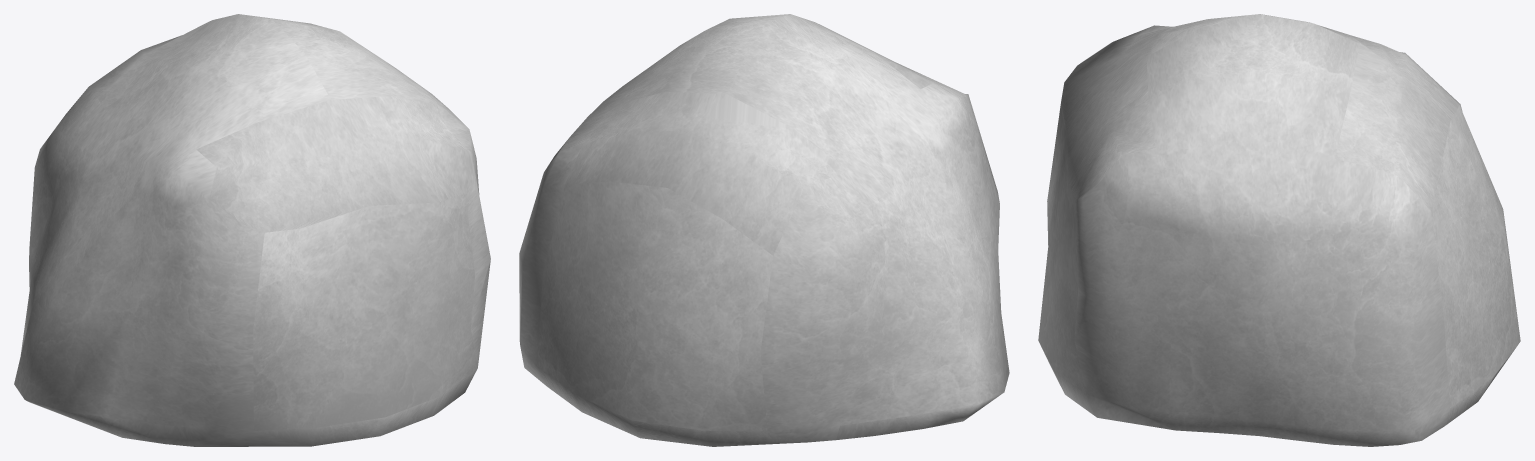
Rendered from sm_snowboulder.fbx.
3 renders of one model, left to right at view 1: azimuth 30°, elevation 25°; view 2: azimuth 150°, elevation 25°; view 3: azimuth 270°, elevation 25°, orthographic. The views are drawn at different scales.
Visible parts, largest first — view 1: sm_snowboulder; view 2: sm_snowboulder; view 3: sm_snowboulder.
Boxes of the visible parts, x1,y1,x2,y2 form: sm_snowboulder: [14, 14, 490, 446]; sm_snowboulder: [519, 14, 1009, 446]; sm_snowboulder: [1038, 14, 1520, 446].
Bounding box in the file's own units: 33.96 × 26.25 × 31.85.
Materials: 1 (1 with a texture image).
